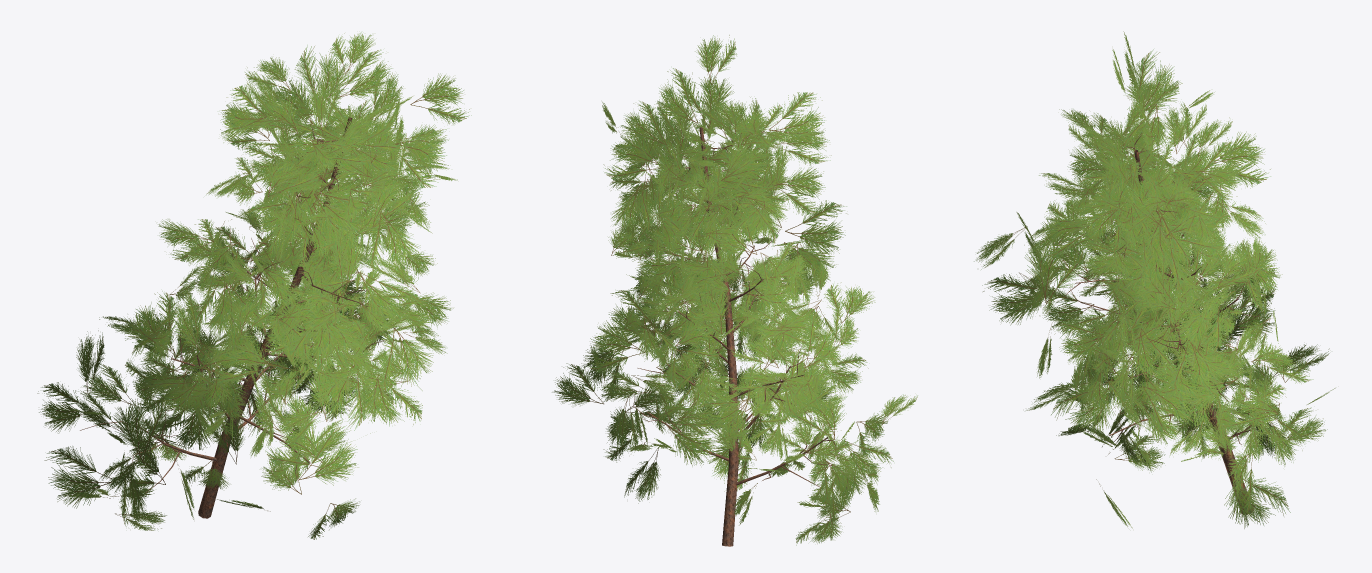
File: AP1_AleppoPine_Young_4m.glb
3 views of the same model, side by side, from view 1: azimuth 30°, elevation 25°; view 2: azimuth 150°, elevation 25°; view 3: azimuth 270°, elevation 25° (orthographic). The views are drawn at different scales.
Parts seen in each view (by area): view 1: AP1_leaves, AP1_wood; view 2: AP1_leaves, AP1_wood; view 3: AP1_leaves, AP1_wood.
Boxes of the visible parts, x1,y1,x2,y2 form: AP1_leaves: [37, 32, 471, 539]; AP1_wood: [80, 117, 412, 518]; AP1_leaves: [552, 35, 917, 545]; AP1_wood: [633, 127, 839, 546]; AP1_leaves: [974, 31, 1335, 528]; AP1_wood: [1061, 135, 1260, 514].
Size of the model in its own units: 3.18 by 4.1 by 2.82.
2 materials, 2 textured.
